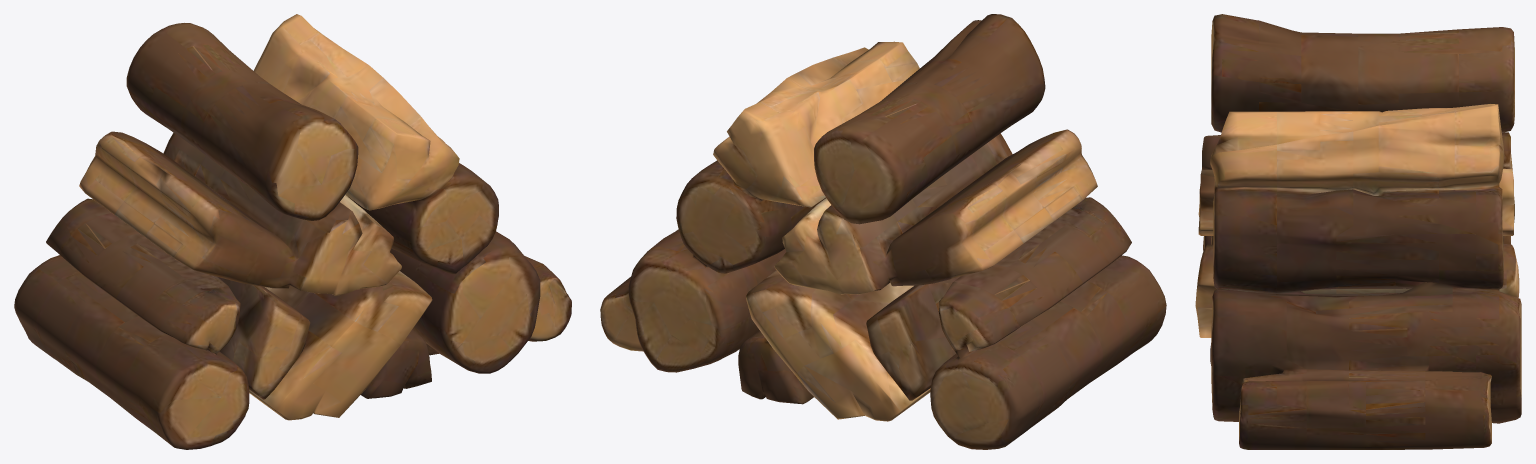
The picture shows the model from 3 angles, left to right: view 1: azimuth 30°, elevation 25°; view 2: azimuth 150°, elevation 25°; view 3: azimuth 270°, elevation 25°; orthographic projection. The views are drawn at different scales.
Bounding box in the file's own units: 1.91 × 1.28 × 1.21.
1 material, 1 textured.
